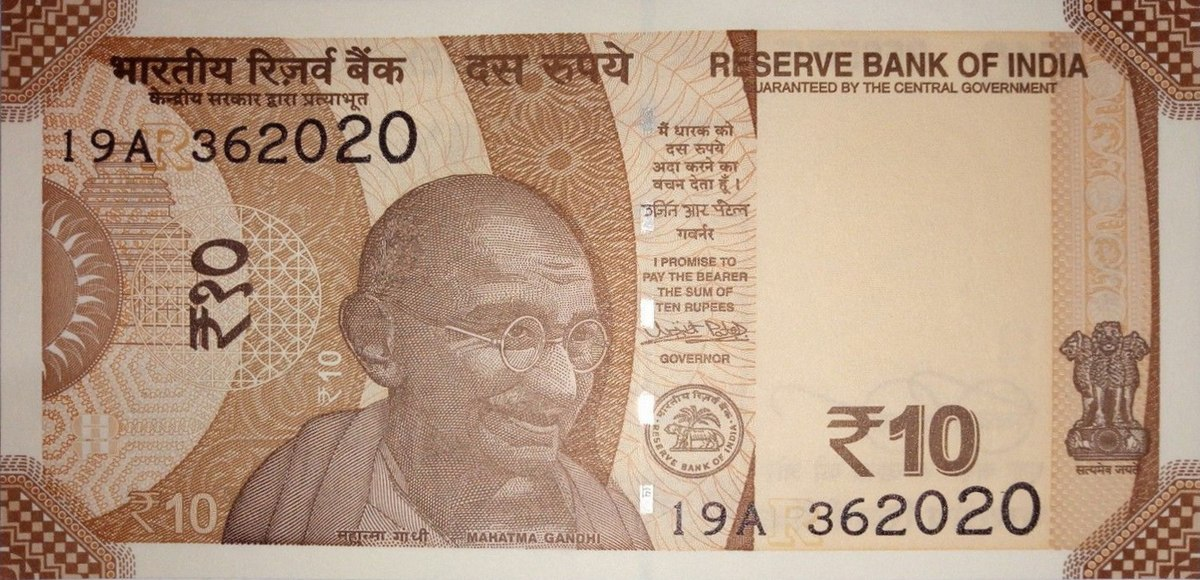ten_rupees_note: (1, 3, 1192, 580)
